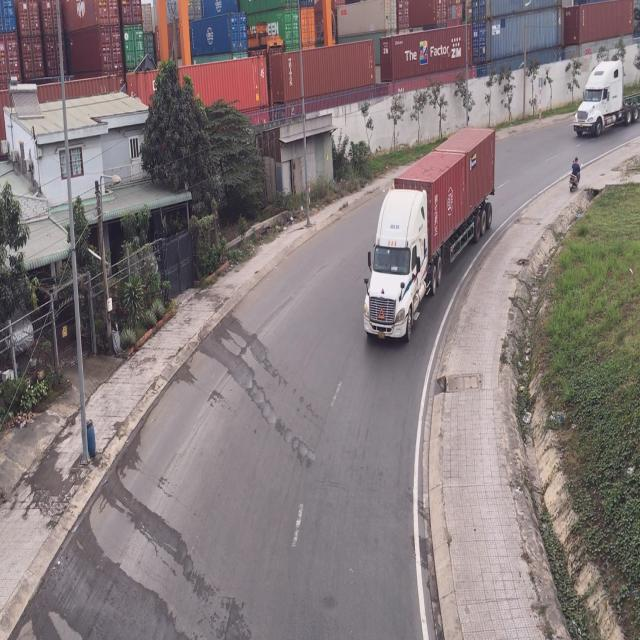motorbike: (569, 157, 581, 194)
truck: (366, 129, 499, 348), (571, 62, 640, 139)
